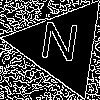N: (36, 21, 82, 71)
